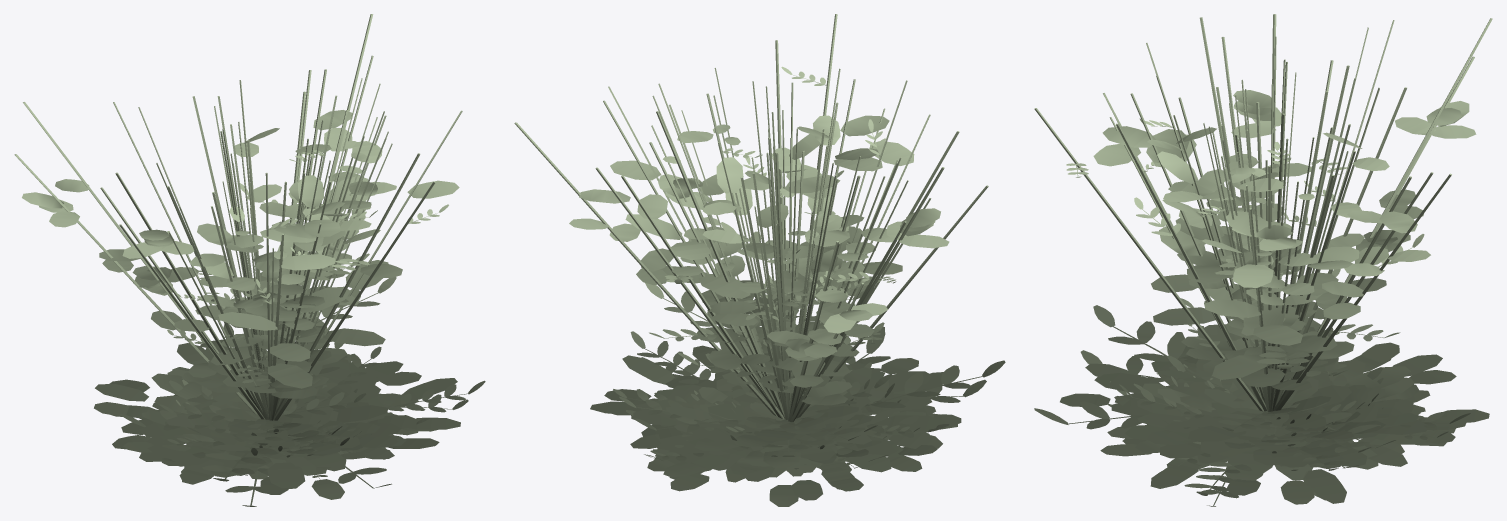
File: herb_ferny.glb
3 views of the same model, side by side, from view 1: azimuth 30°, elevation 25°; view 2: azimuth 150°, elevation 25°; view 3: azimuth 270°, elevation 25° (orthographic). The views are drawn at different scales.
Parts seen in each view (by area): view 1: v10_foliage, v8_foliage, v7_foliage, v11_foliage, v0_foliage, v4_foliage, v1_foliage, v9_foliage, v5_foliage, v6_foliage, v2_foliage, v3_foliage; view 2: v10_foliage, v8_foliage, v7_foliage, v11_foliage, v0_foliage, v4_foliage, v1_foliage, v9_foliage, v5_foliage, v6_foliage, v2_foliage, v3_foliage; view 3: v10_foliage, v8_foliage, v11_foliage, v7_foliage, v0_foliage, v4_foliage, v1_foliage, v9_foliage, v5_foliage, v6_foliage, v2_foliage, v3_foliage.
Boxes of the visible parts, <box> form: v10_foliage: <box>121,55,462,488</box>; v8_foliage: <box>14,14,460,499</box>; v7_foliage: <box>120,96,396,506</box>; v11_foliage: <box>174,80,386,468</box>; v0_foliage: <box>142,83,397,467</box>; v4_foliage: <box>163,69,485,455</box>; v1_foliage: <box>100,95,448,479</box>; v9_foliage: <box>229,78,388,410</box>; v5_foliage: <box>176,106,361,468</box>; v6_foliage: <box>138,107,377,455</box>; v2_foliage: <box>113,102,321,457</box>; v3_foliage: <box>222,120,392,447</box>; v10_foliage: <box>603,79,957,473</box>; v8_foliage: <box>514,122,961,506</box>; v7_foliage: <box>619,137,1005,461</box>; v11_foliage: <box>666,68,902,477</box>; v0_foliage: <box>651,83,909,482</box>; v4_foliage: <box>595,40,959,461</box>; v1_foliage: <box>644,14,988,469</box>; v9_foliage: <box>652,68,836,447</box>; v5_foliage: <box>715,80,912,456</box>; v6_foliage: <box>694,81,908,440</box>; v2_foliage: <box>709,108,931,438</box>; v3_foliage: <box>731,86,868,414</box>; v10_foliage: <box>1093,93,1446,480</box>; v8_foliage: <box>1060,14,1492,504</box>; v11_foliage: <box>1142,75,1413,469</box>; v7_foliage: <box>1034,65,1395,468</box>; v0_foliage: <box>1130,103,1425,463</box>; v4_foliage: <box>1116,17,1470,506</box>; v1_foliage: <box>1034,37,1448,446</box>; v9_foliage: <box>1210,84,1353,444</box>; v5_foliage: <box>1110,43,1383,436</box>; v6_foliage: <box>1171,27,1378,453</box>; v2_foliage: <box>1109,20,1394,431</box>; v3_foliage: <box>1193,72,1311,423</box>.
Bounding box in the file's own units: 1.2 × 1 × 1.2.
